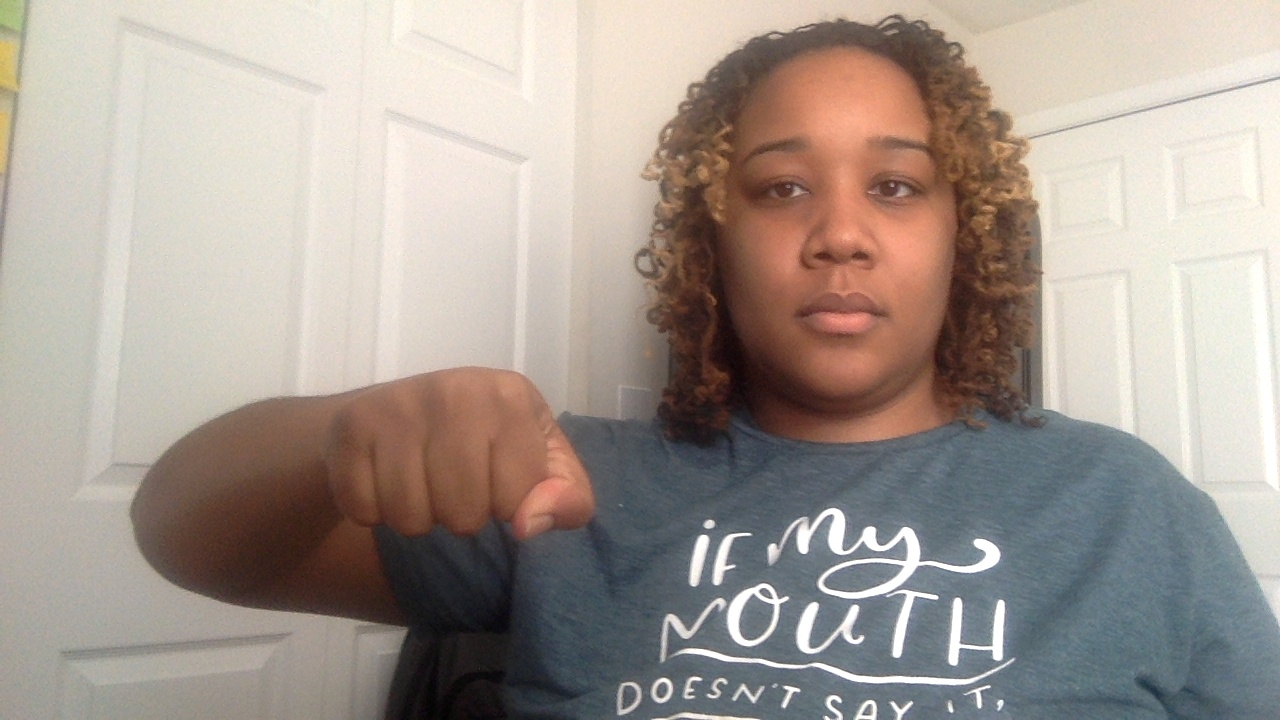yes: (287, 351, 600, 576)
